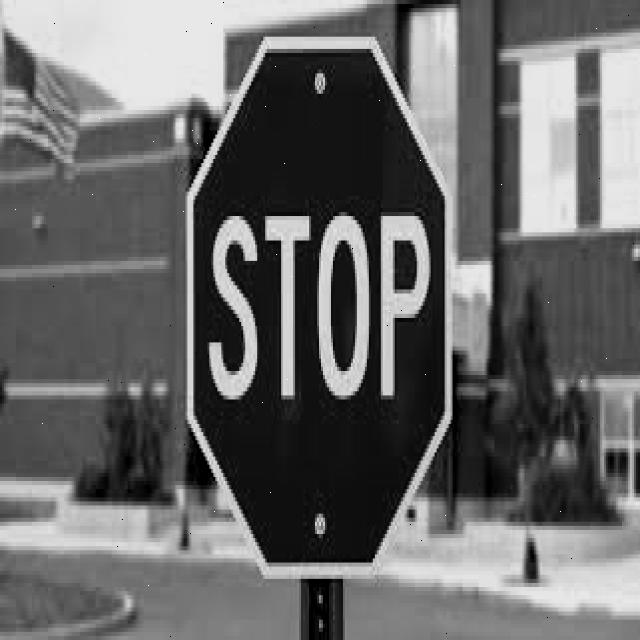stop sign: (182, 42, 452, 570)
